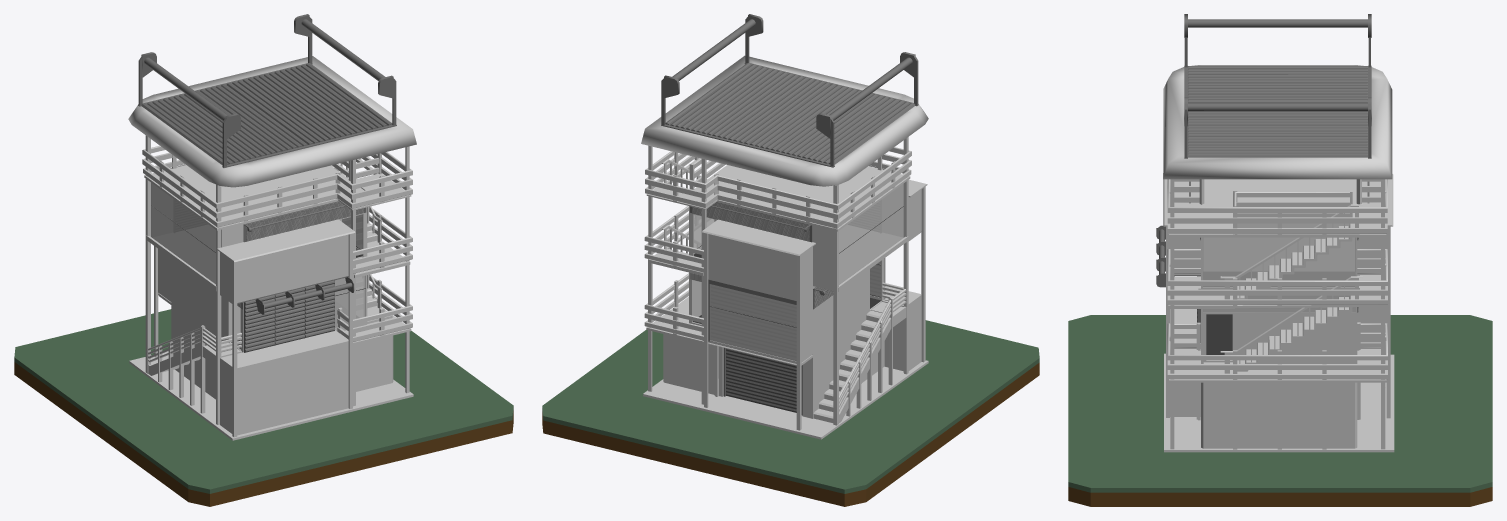
The model's file is Tower-House Design.dae.
3 renders of one model, left to right at view 1: azimuth 30°, elevation 25°; view 2: azimuth 150°, elevation 25°; view 3: azimuth 270°, elevation 25°, orthographic. The views are drawn at different scales.
Visible parts, largest first — view 1: Plane; view 2: Plane; view 3: Plane.
Boxes of the visible parts, left/top/right/bottom form: Plane: left=14, top=14, right=513, bottom=506; Plane: left=542, top=14, right=1039, bottom=506; Plane: left=1068, top=14, right=1492, bottom=506.
Bounding box in the file's own units: 15.44 × 16 × 15.13.
